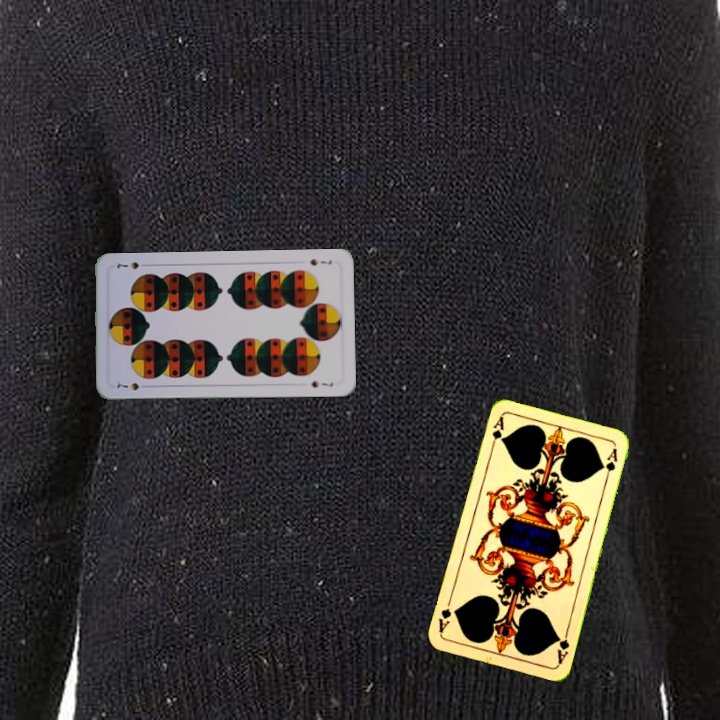GA: (553, 626, 572, 666), (487, 413, 506, 453)
S7: (113, 378, 151, 393), (305, 255, 334, 268)
